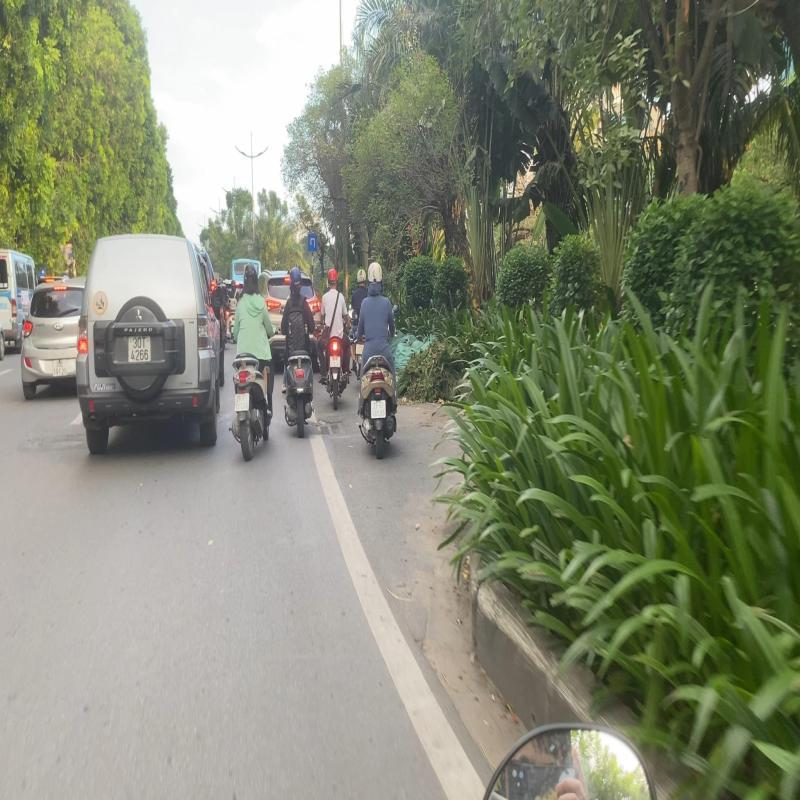helmet: (244, 262, 258, 284), (288, 268, 302, 290), (368, 262, 382, 282), (328, 268, 338, 286), (357, 269, 366, 282)
licenseplate: (234, 390, 250, 414), (370, 399, 387, 420), (329, 354, 341, 370)
motorcyclist: (355, 262, 400, 459), (234, 261, 274, 461), (280, 268, 316, 438), (316, 268, 351, 411)
